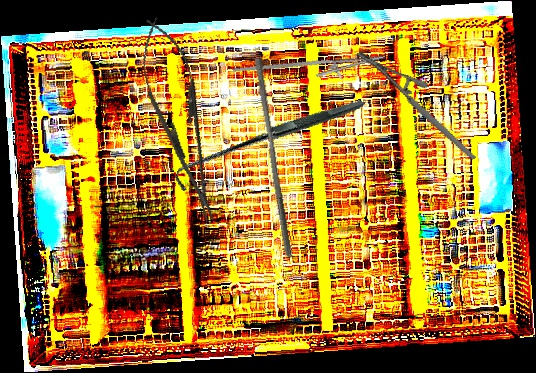Hook Surgical: (171, 50, 366, 239)
Needle Holder: (127, 11, 233, 230), (355, 27, 477, 185), (232, 36, 388, 102)
Pusher: (247, 55, 301, 260)
